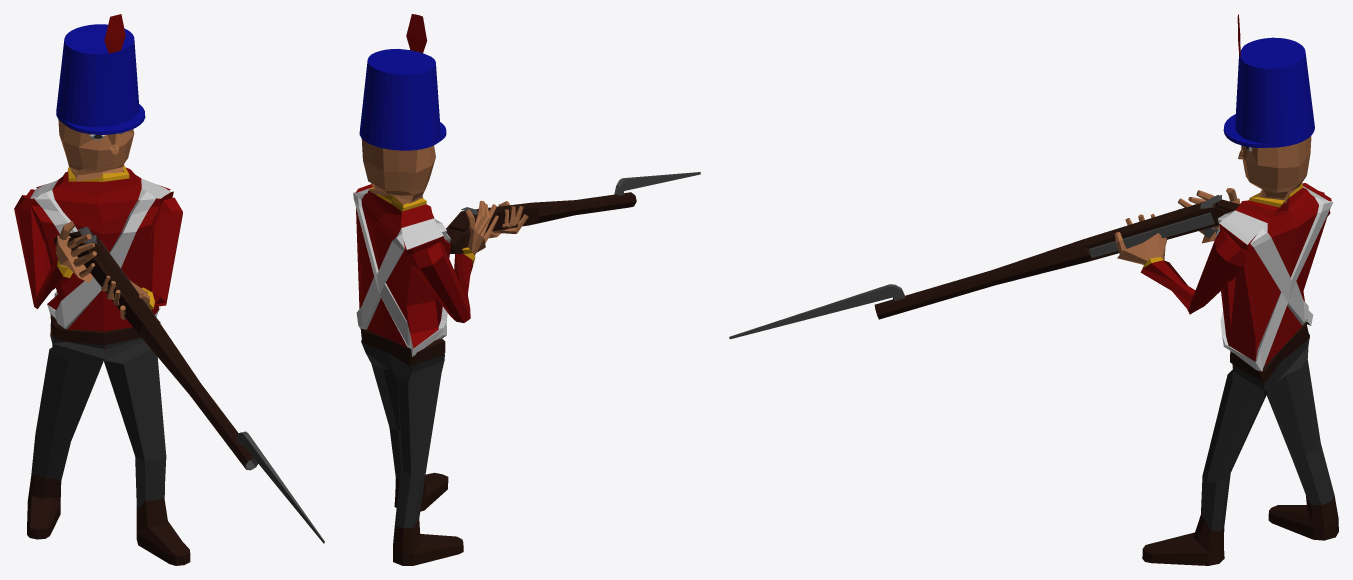
File: frame4.obj
3 renders of one model, left to right at view 1: azimuth 30°, elevation 25°; view 2: azimuth 150°, elevation 25°; view 3: azimuth 270°, elevation 25°, orthographic. The views are drawn at different scales.
Parts seen in each view (by area): view 1: {Man}_Circle, {Mesket}_Cube.001; view 2: {Man}_Circle, {Mesket}_Cube.001; view 3: {Man}_Circle, {Mesket}_Cube.001.
Boxes of the visible parts, x1,y1,x2,y2 form: {Man}_Circle: (14,14,190,565); {Mesket}_Cube.001: (54,226,324,543); {Man}_Circle: (353,14,528,565); {Mesket}_Cube.001: (446,172,700,254); {Man}_Circle: (1114,14,1338,565); {Mesket}_Cube.001: (729,194,1239,339).
Bounding box in the file's own units: 4.21 × 16.23 × 16.84.
